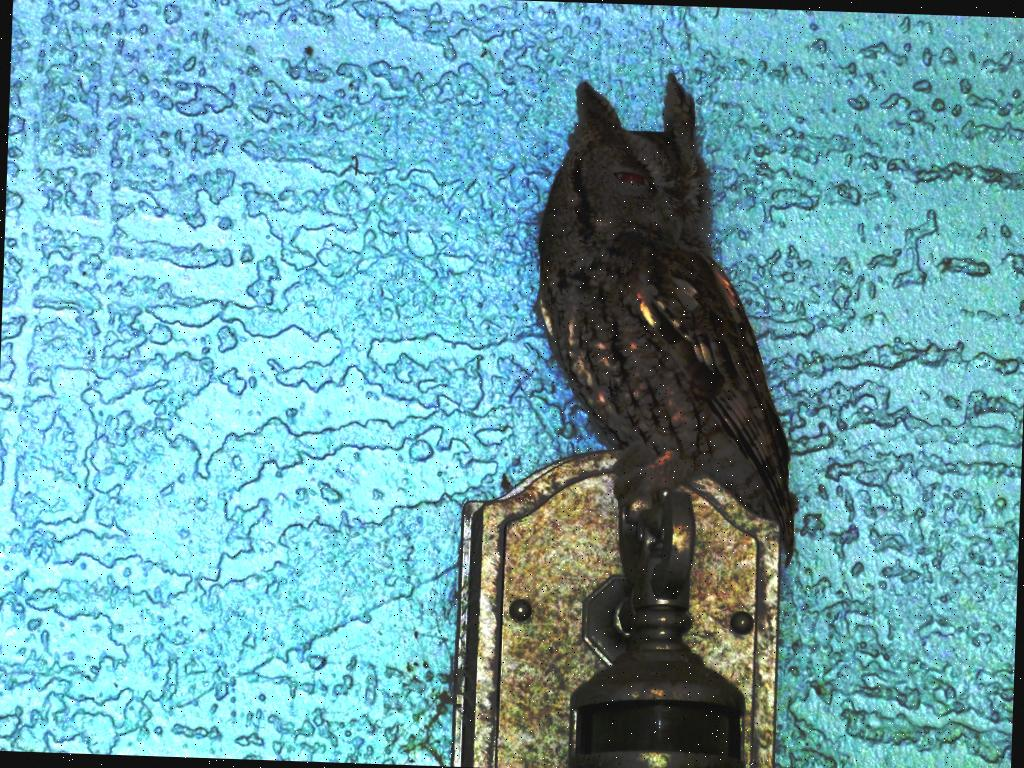Owl: (523, 69, 813, 569)
